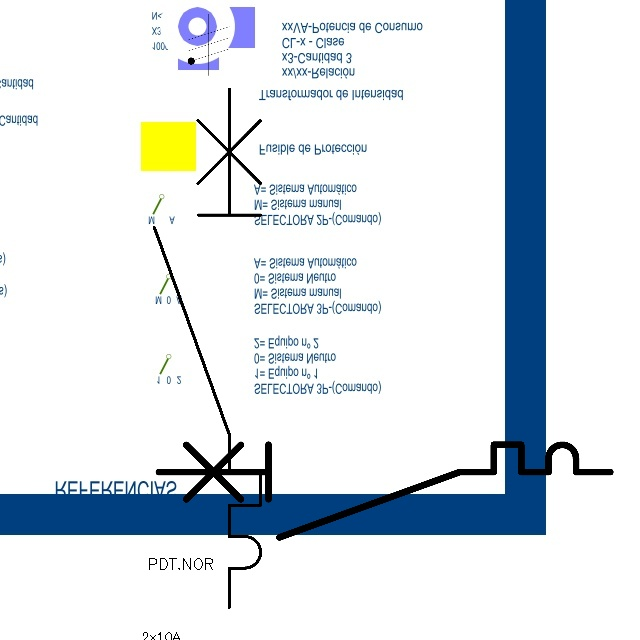interruptor_termomagnetico: (141, 75, 274, 620), (147, 433, 622, 549)
